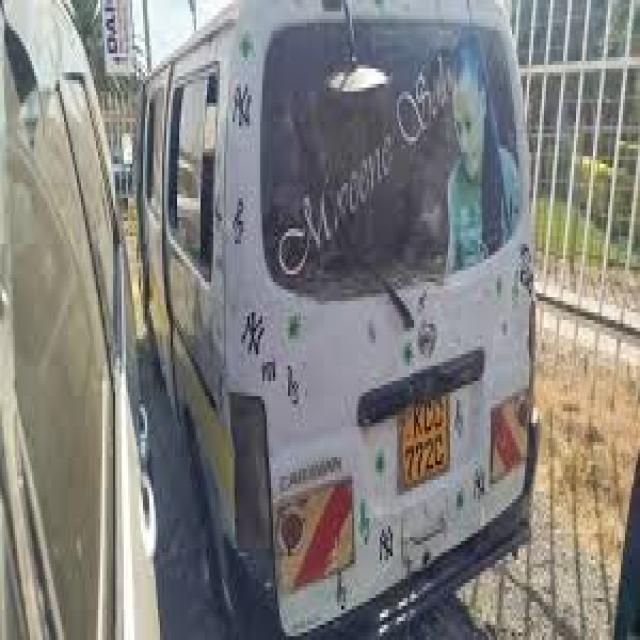matatu: (125, 0, 577, 640)
